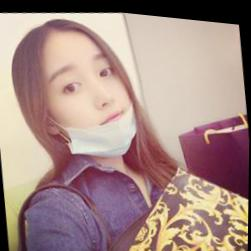WRONG: (34, 39, 148, 162)
